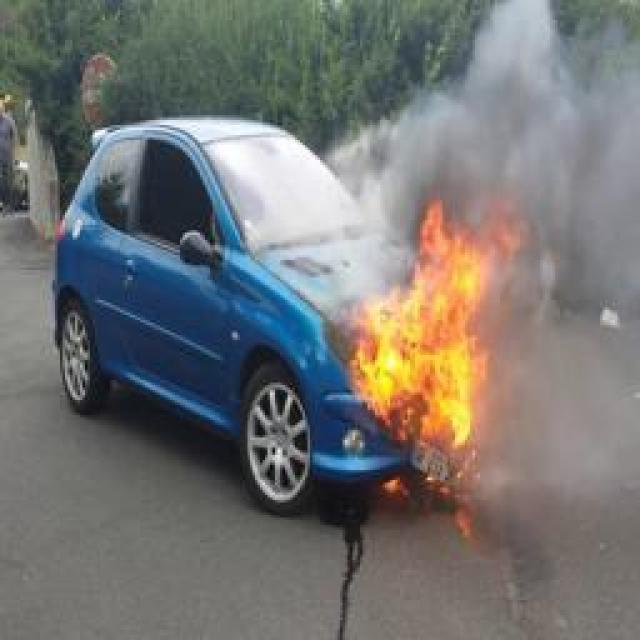Fire: (348, 198, 532, 448)
